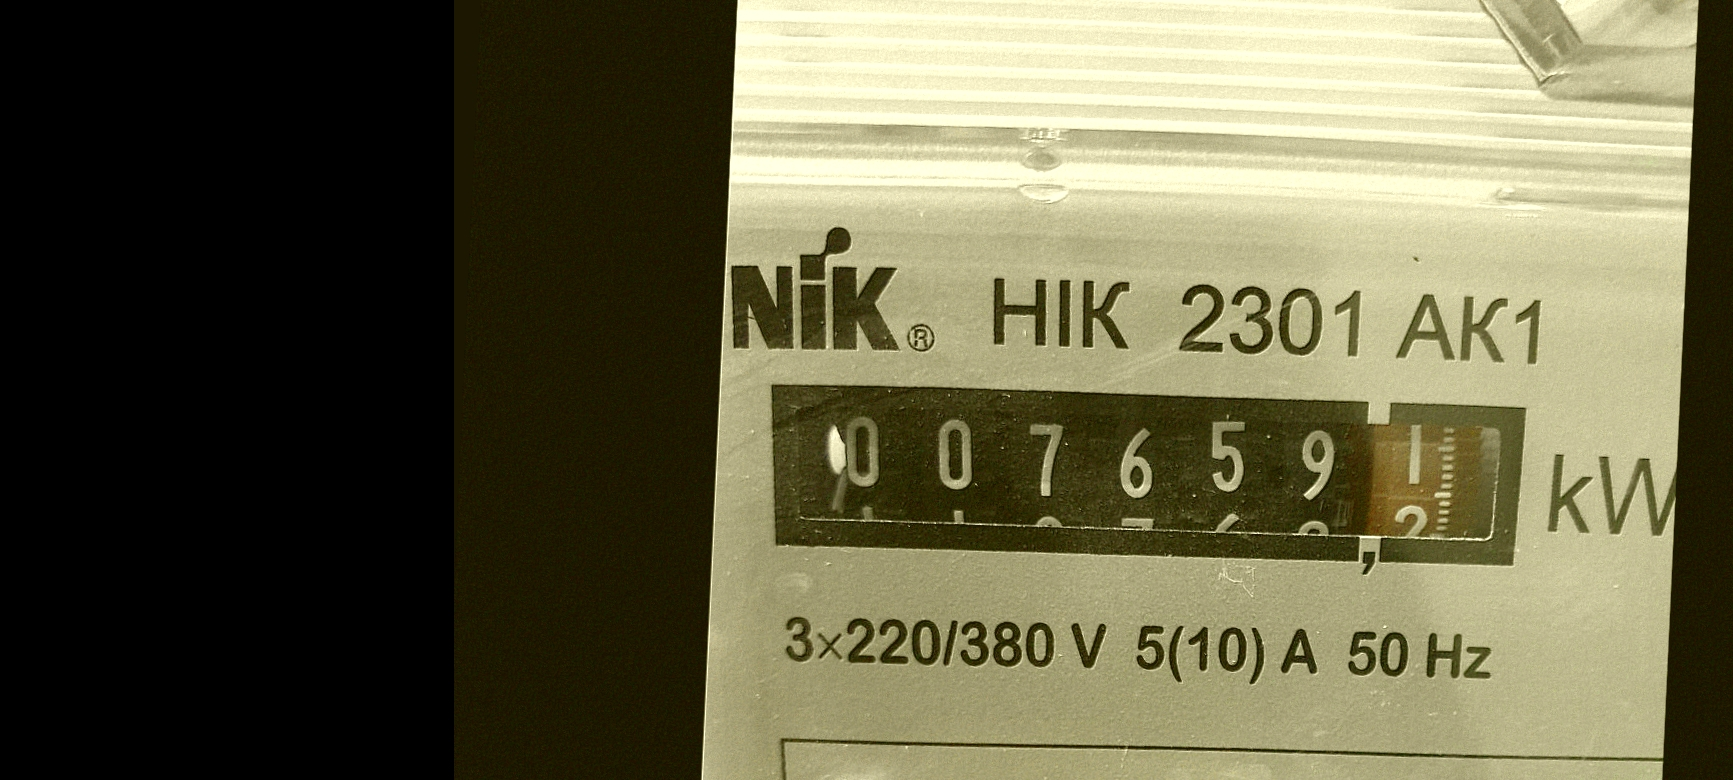0: (924, 409, 984, 497), (836, 405, 890, 498)
1: (1399, 417, 1436, 494)
5: (1202, 414, 1252, 498)
6: (1109, 419, 1164, 504)
7: (1022, 417, 1068, 503)
9: (1295, 421, 1341, 512)
screen: (744, 351, 1548, 602)
